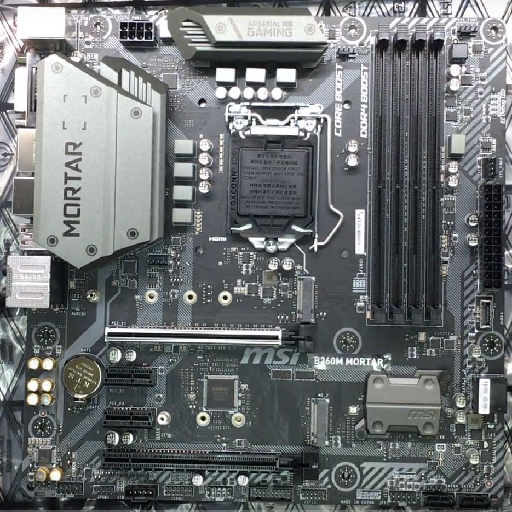CPU: (225, 124, 318, 254)
GPU: (101, 447, 321, 482), (102, 320, 314, 355)
MOTHERBOARD: (9, 5, 505, 509)
RAM: (367, 23, 447, 331)
SSD: (306, 394, 331, 449), (295, 274, 318, 319)
